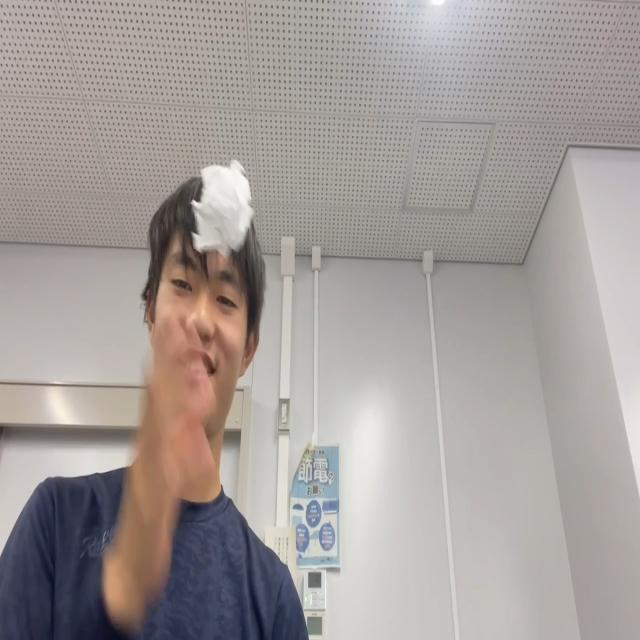paper: (190, 160, 253, 259)
